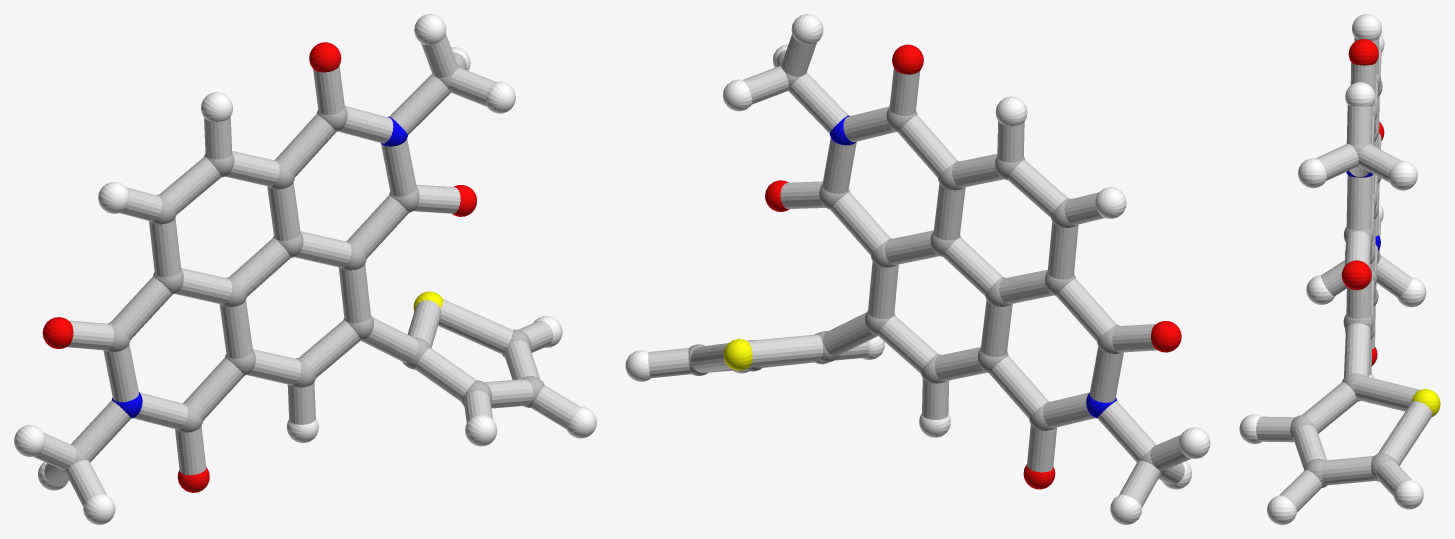
The model's file is Dimethyl_Naphthalene_Dicarboximide_Phi_15_Theta_110_Thiophene.glb.
The picture shows the model from 3 angles, left to right: view 1: azimuth 30°, elevation 25°; view 2: azimuth 150°, elevation 25°; view 3: azimuth 270°, elevation 25°; orthographic projection. The views are drawn at different scales.
Visible parts, largest first — view 1: grp14119, grp7241, grp1, grp12309, grp11585; view 2: grp14119, grp7241, grp1, grp12309, grp13757, grp11585; view 3: grp14119, grp7241, grp1, grp12309, grp13757.
Boxes of the visible parts, x1,y1,x2,y2 form: grp14119: (34,34,579,506); grp7241: (14,14,596,524); grp1: (61,65,544,473); grp12309: (42,42,476,492); grp11585: (112,116,407,418); grp14119: (648,34,1191,507); grp7241: (625,14,1210,524); grp1: (688,63,1165,474); grp12309: (765,44,1181,489); grp13757: (723,339,752,370); grp11585: (829,115,1116,418); grp14119: (1256,37,1432,512); grp7241: (1239,14,1426,524); grp1: (1290,72,1398,487); grp12309: (1341,39,1384,365); grp13757: (1411,389,1440,416).
Bounding box in the file's own units: 12.17 × 8.62 × 4.01.
